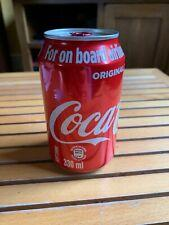metal: (39, 29, 126, 172)
